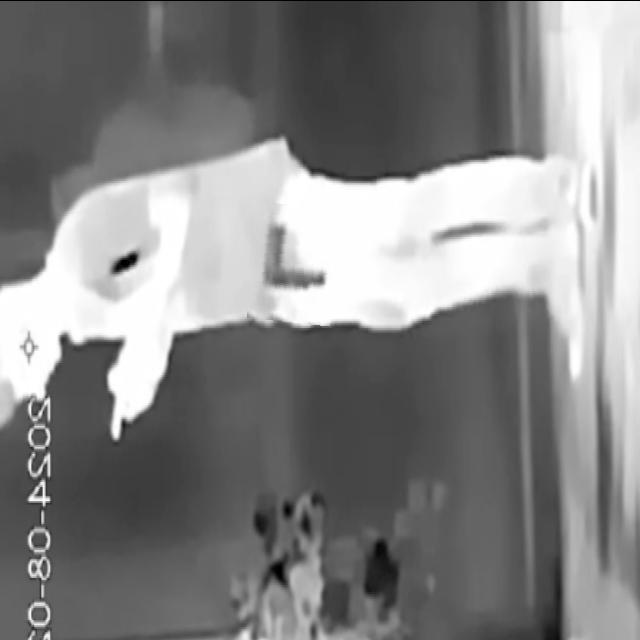Weapon: (250, 202, 340, 323)
